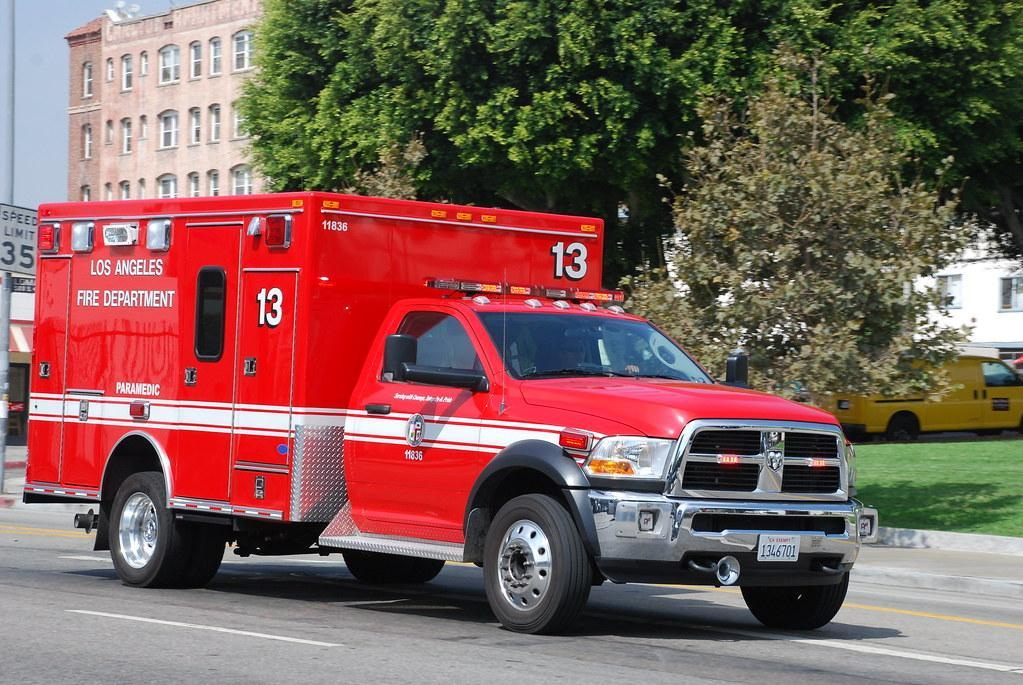Fire-engine: (16, 193, 863, 636)
